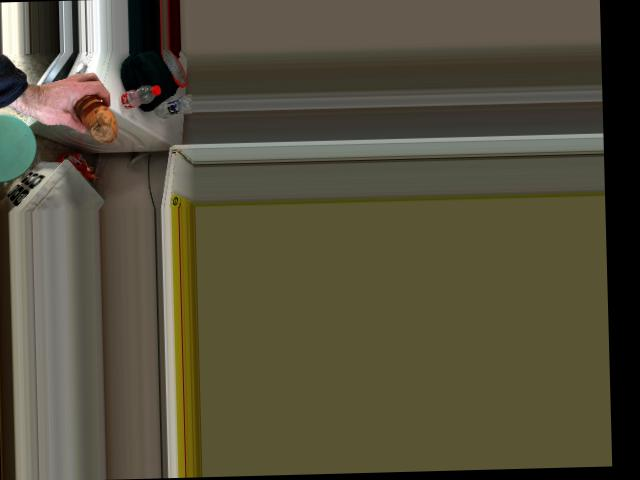sweet_potato: (74, 97, 120, 142)
